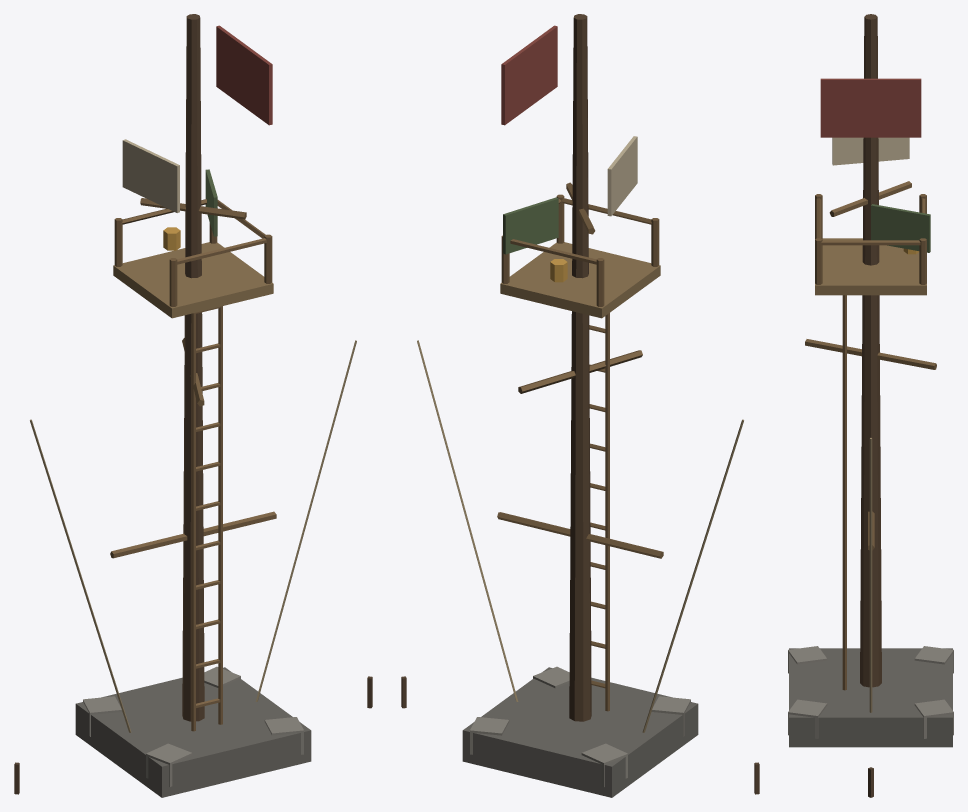
The model's file is V_SignalMast.glb.
The picture shows the model from 3 angles, left to right: view 1: azimuth 30°, elevation 25°; view 2: azimuth 150°, elevation 25°; view 3: azimuth 270°, elevation 25°; orthographic projection. The views are drawn at different scales.
Parts seen in each view (by area): view 1: V_SignalMast_Foundation, V_SignalMast_Fixtures, V_SignalMast_Structure, V_SignalMast_Props; view 2: V_SignalMast_Foundation, V_SignalMast_Fixtures, V_SignalMast_Structure, V_SignalMast_Props; view 3: V_SignalMast_Foundation, V_SignalMast_Props, V_SignalMast_Fixtures, V_SignalMast_Structure.
Part boxes in pixels (x1,y1,x2,y2): V_SignalMast_Foundation: [75, 666, 311, 797]; V_SignalMast_Fixtures: [110, 198, 276, 731]; V_SignalMast_Structure: [182, 14, 204, 721]; V_SignalMast_Props: [14, 25, 372, 794]; V_SignalMast_Foundation: [462, 666, 698, 797]; V_SignalMast_Fixtures: [497, 182, 663, 711]; V_SignalMast_Structure: [569, 14, 591, 721]; V_SignalMast_Props: [401, 25, 759, 794]; V_SignalMast_Foundation: [788, 646, 953, 747]; V_SignalMast_Props: [820, 78, 930, 797]; V_SignalMast_Fixtures: [805, 181, 936, 690]; V_SignalMast_Structure: [860, 14, 881, 687].
Bounding box in the file's own units: 5.28 × 10.33 × 2.23.
